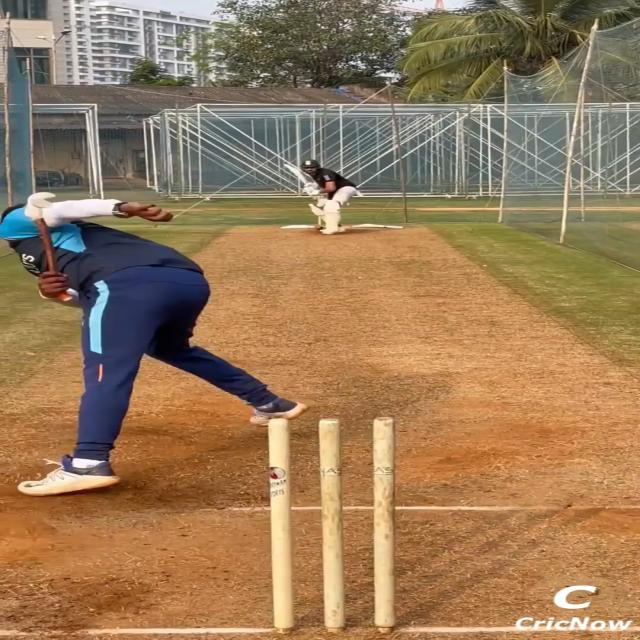ball: (314, 225, 324, 231)
stump: (267, 416, 398, 634)
